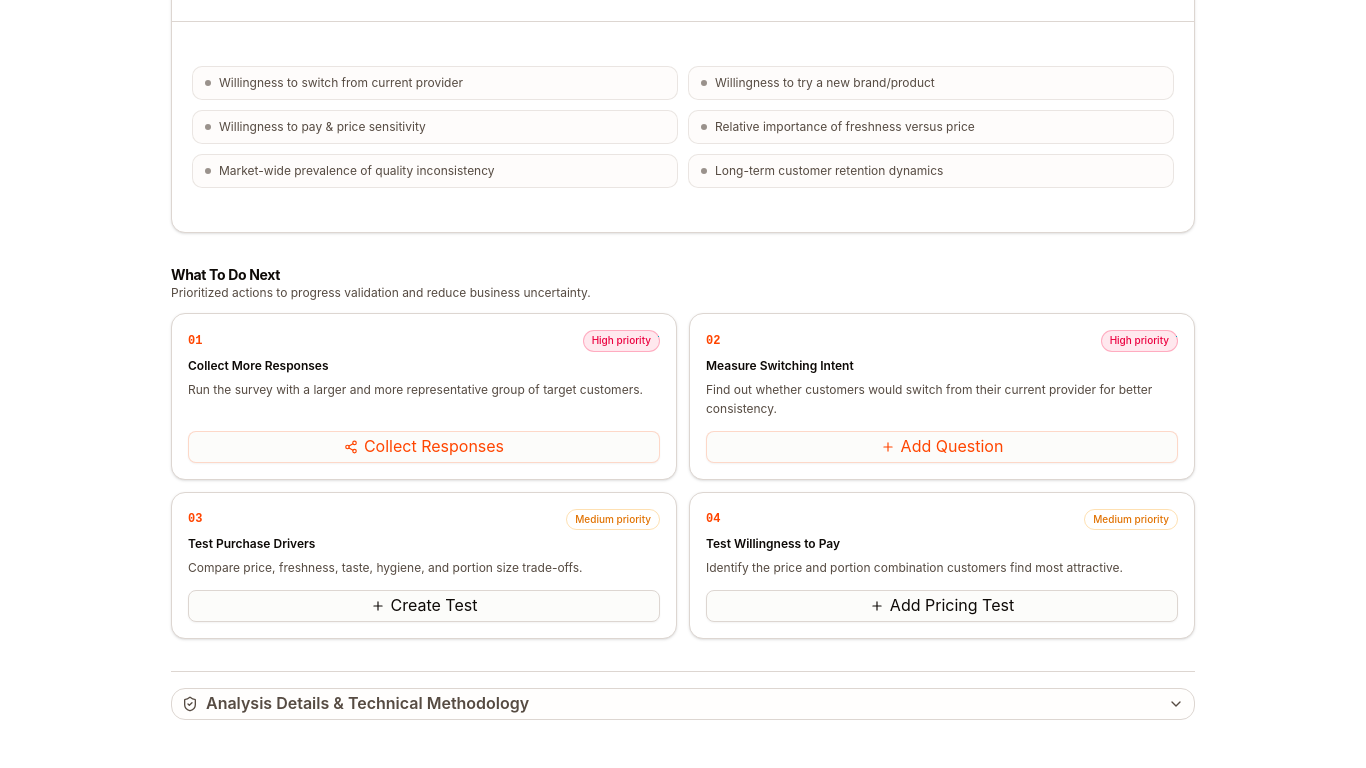
SurveyAnalysisReport › toggles collapsible technical methodology details in the footer
The image size is (1366, 768).
(page scrolled)
Expected: the text "Response Completeness" is not shown
Click the button "Analysis Details & Technical Methodology".
click(368, 703)  # box [171,688,1195,720]
(page scrolled)
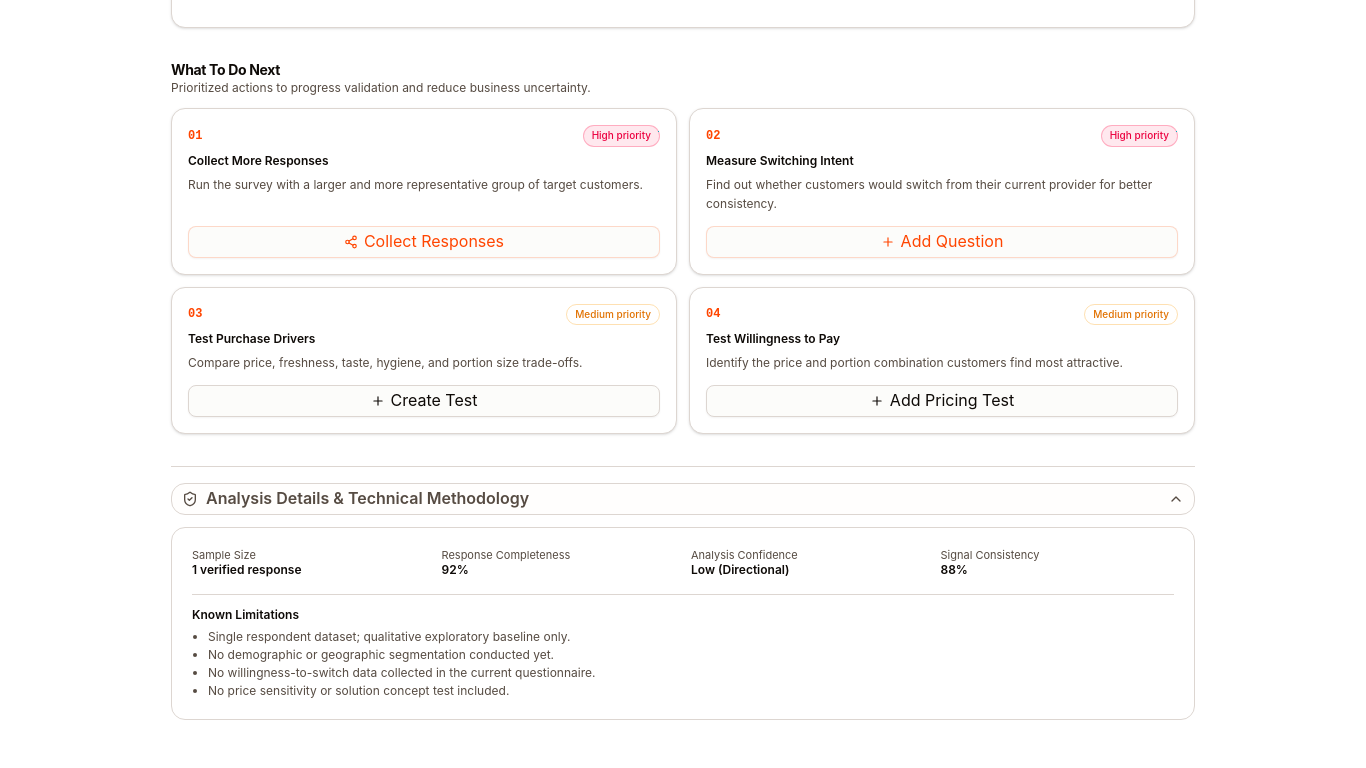
Expected: the text "Response Completeness" is shown, [442,548,570,562]
Expected: the text "Known Limitations" is shown, [192,607,299,622]
